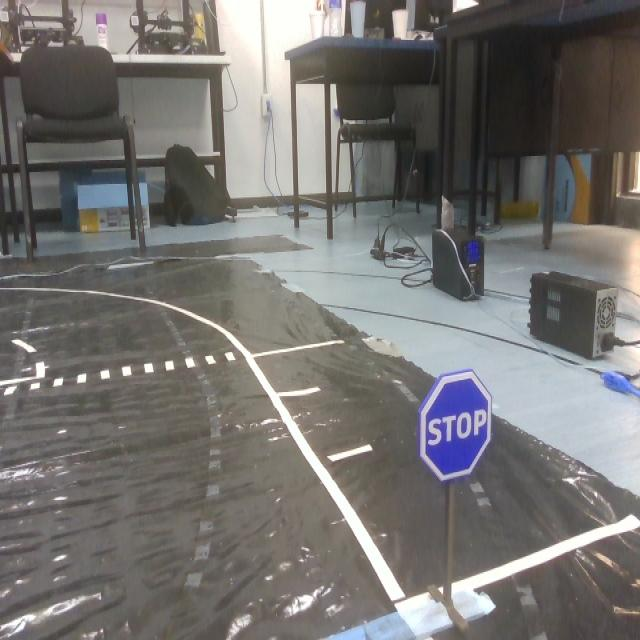no_entry: (426, 372, 504, 488)
